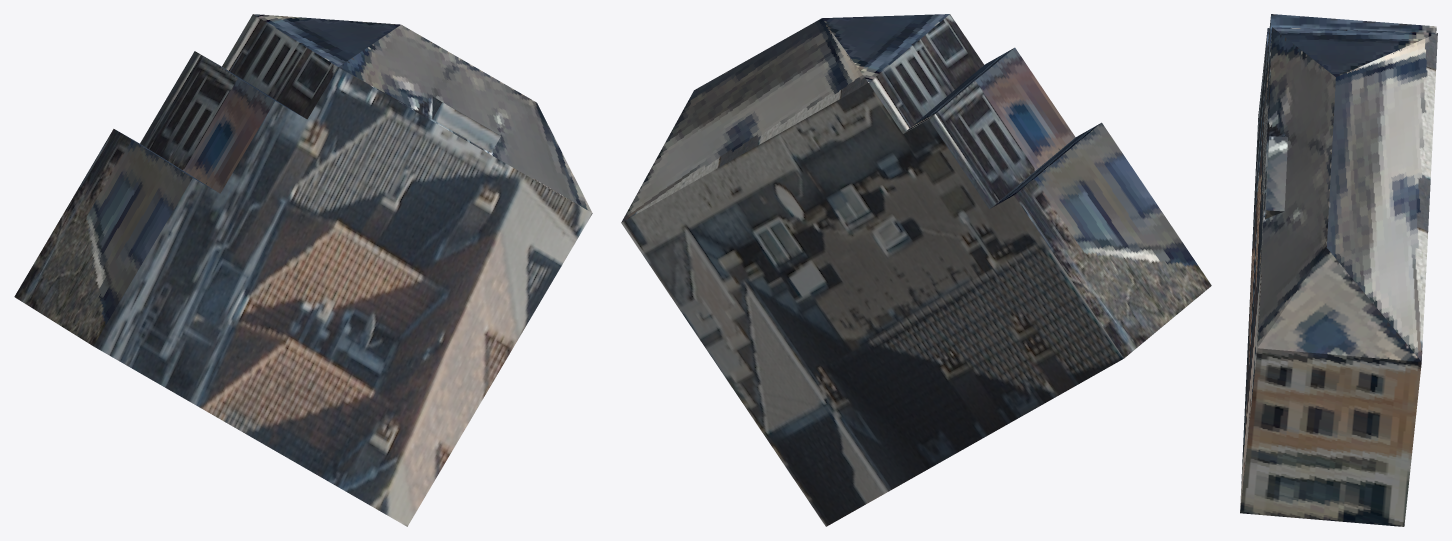
3 renders of one model, left to right at view 1: azimuth 30°, elevation 25°; view 2: azimuth 150°, elevation 25°; view 3: azimuth 270°, elevation 25°, orthographic.
Visible parts, largest first — view 1: BAG_0599100000671705 (×4); view 2: BAG_0599100000671705 (×3); view 3: BAG_0599100000671705 (×5).
Boxes of the visible parts, box(x1,y1,x2,y2) form: BAG_0599100000671705 (×4): box(14, 14, 592, 526); BAG_0599100000671705 (×3): box(621, 14, 1211, 526); BAG_0599100000671705 (×5): box(1240, 14, 1437, 526).
Size of the model in its own units: 19.03 by 17.11 by 6.5.
Materials: 5 (5 with a texture image).
